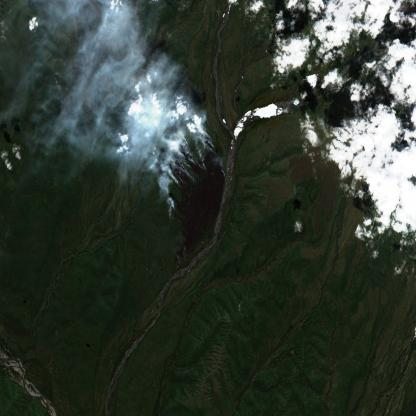fire: (154, 115, 228, 228)
